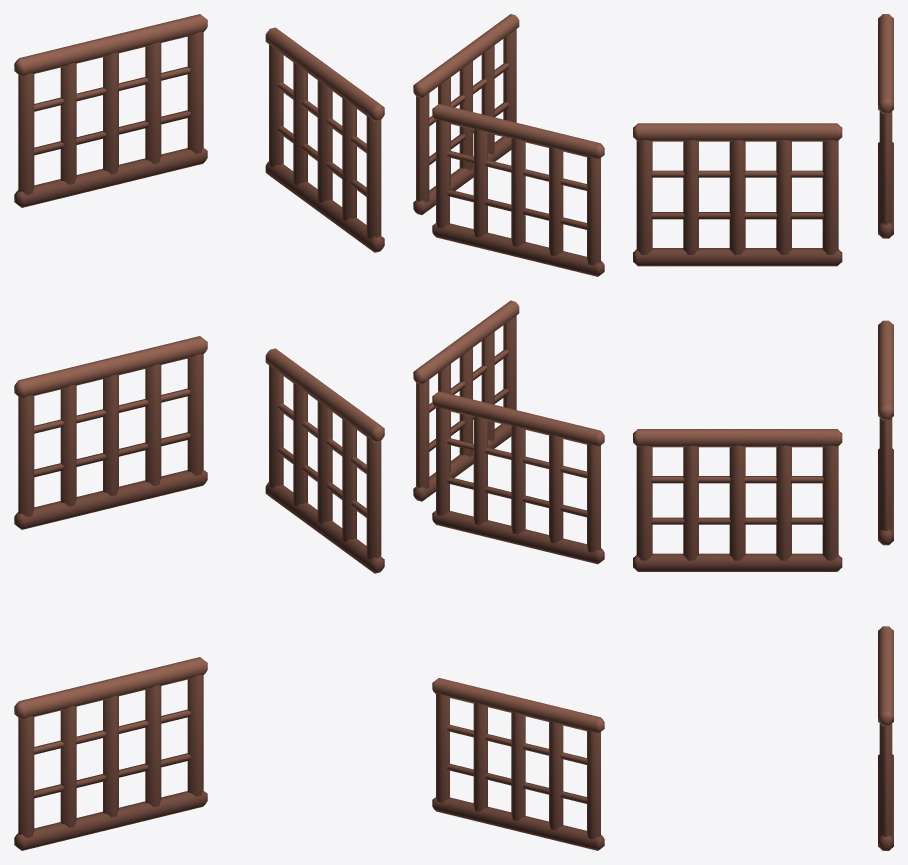
Rendered from SM_Wood_Window_04.fbx.
The picture shows the model from 3 angles, left to right: view 1: azimuth 30°, elevation 25°; view 2: azimuth 150°, elevation 25°; view 3: azimuth 270°, elevation 25°; orthographic projection. The views are drawn at different scales.
Visible parts, largest first — view 1: SM_Wood_Window_04; view 2: SM_Wood_Window_04; view 3: SM_Wood_Window_04.
Part boxes in pixels (x1,y1,x2,y2): SM_Wood_Window_04: (14,14,384,850); SM_Wood_Window_04: (413,14,604,850); SM_Wood_Window_04: (633,14,893,850).
Bounding box in the file's own units: 0.7766 × 2.46 × 0.772.
